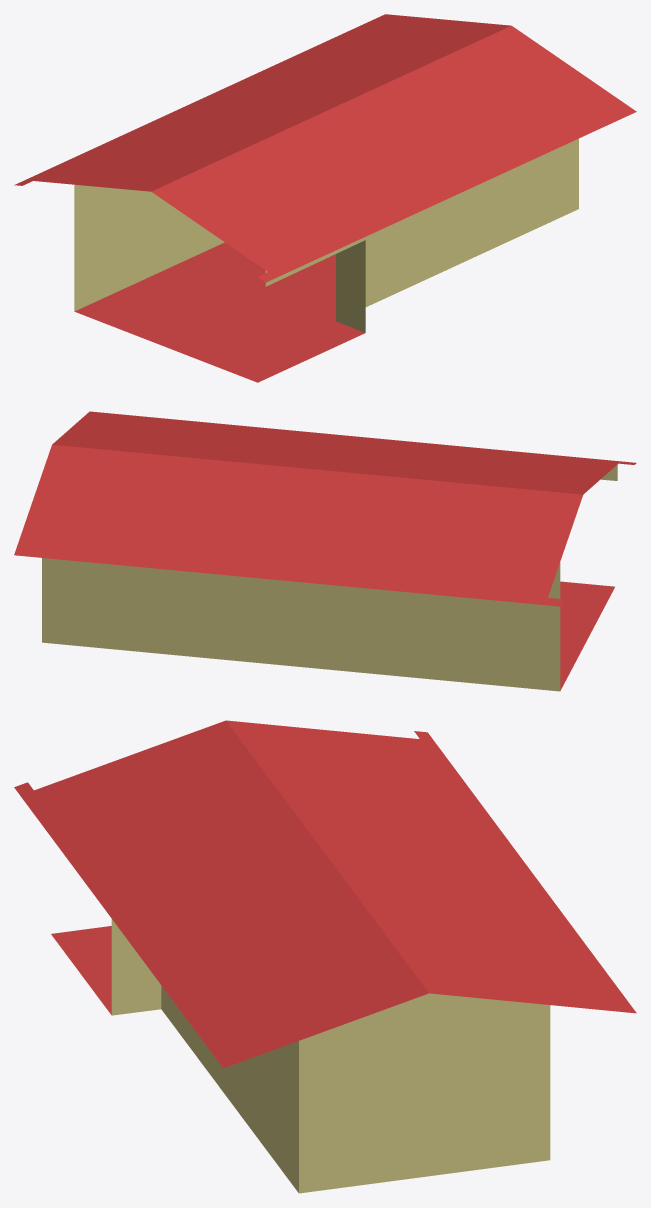
The picture shows the model from 3 angles, top to bottom: view 1: azimuth 30°, elevation 25°; view 2: azimuth 150°, elevation 25°; view 3: azimuth 270°, elevation 25°; orthographic projection. The views are drawn at different scales.
Size of the model in its own units: 54.81 by 42.93 by 14.46.
